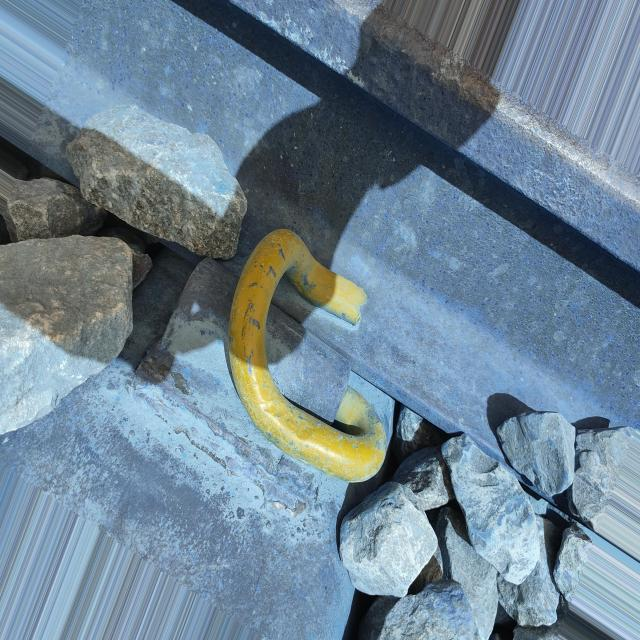Good Fasteners: (115, 210, 406, 534)
